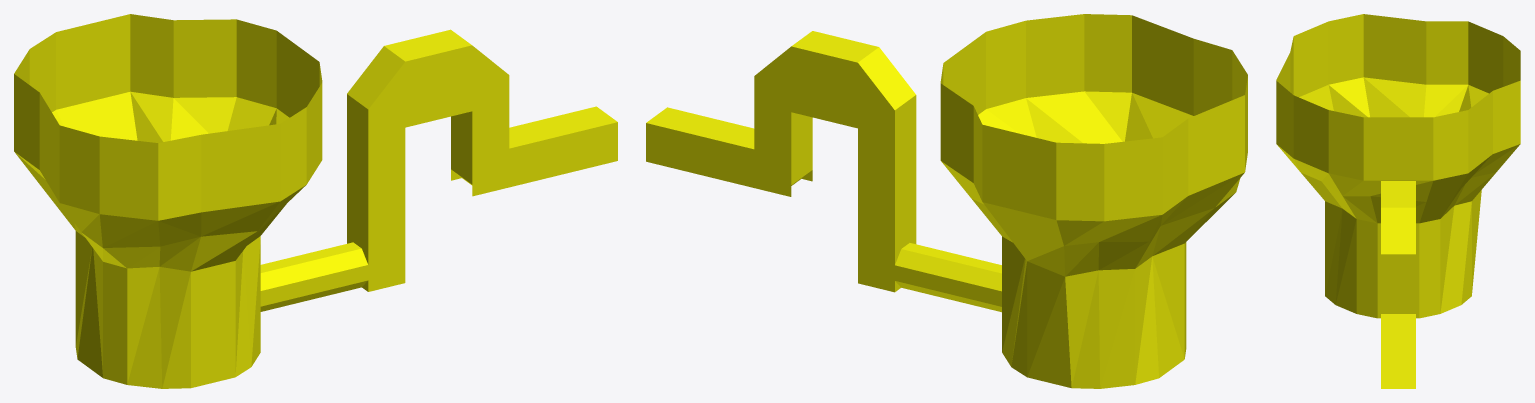
Rendered from ddd_segment7.0x0D310.collision.obj.
The picture shows the model from 3 angles, left to right: view 1: azimuth 30°, elevation 25°; view 2: azimuth 150°, elevation 25°; view 3: azimuth 270°, elevation 25°; orthographic projection. The views are drawn at different scales.
Parts seen in each view (by area): view 1: ddd_segment7_0D310_normal; view 2: ddd_segment7_0D310_normal; view 3: ddd_segment7_0D310_normal.
Part boxes in pixels (x1,y1,x2,y2): ddd_segment7_0D310_normal: (14,14,617,388); ddd_segment7_0D310_normal: (646,14,1247,388); ddd_segment7_0D310_normal: (1276,14,1520,388).
Bounding box in the file's own units: 15.32 × 7.3 × 7.
